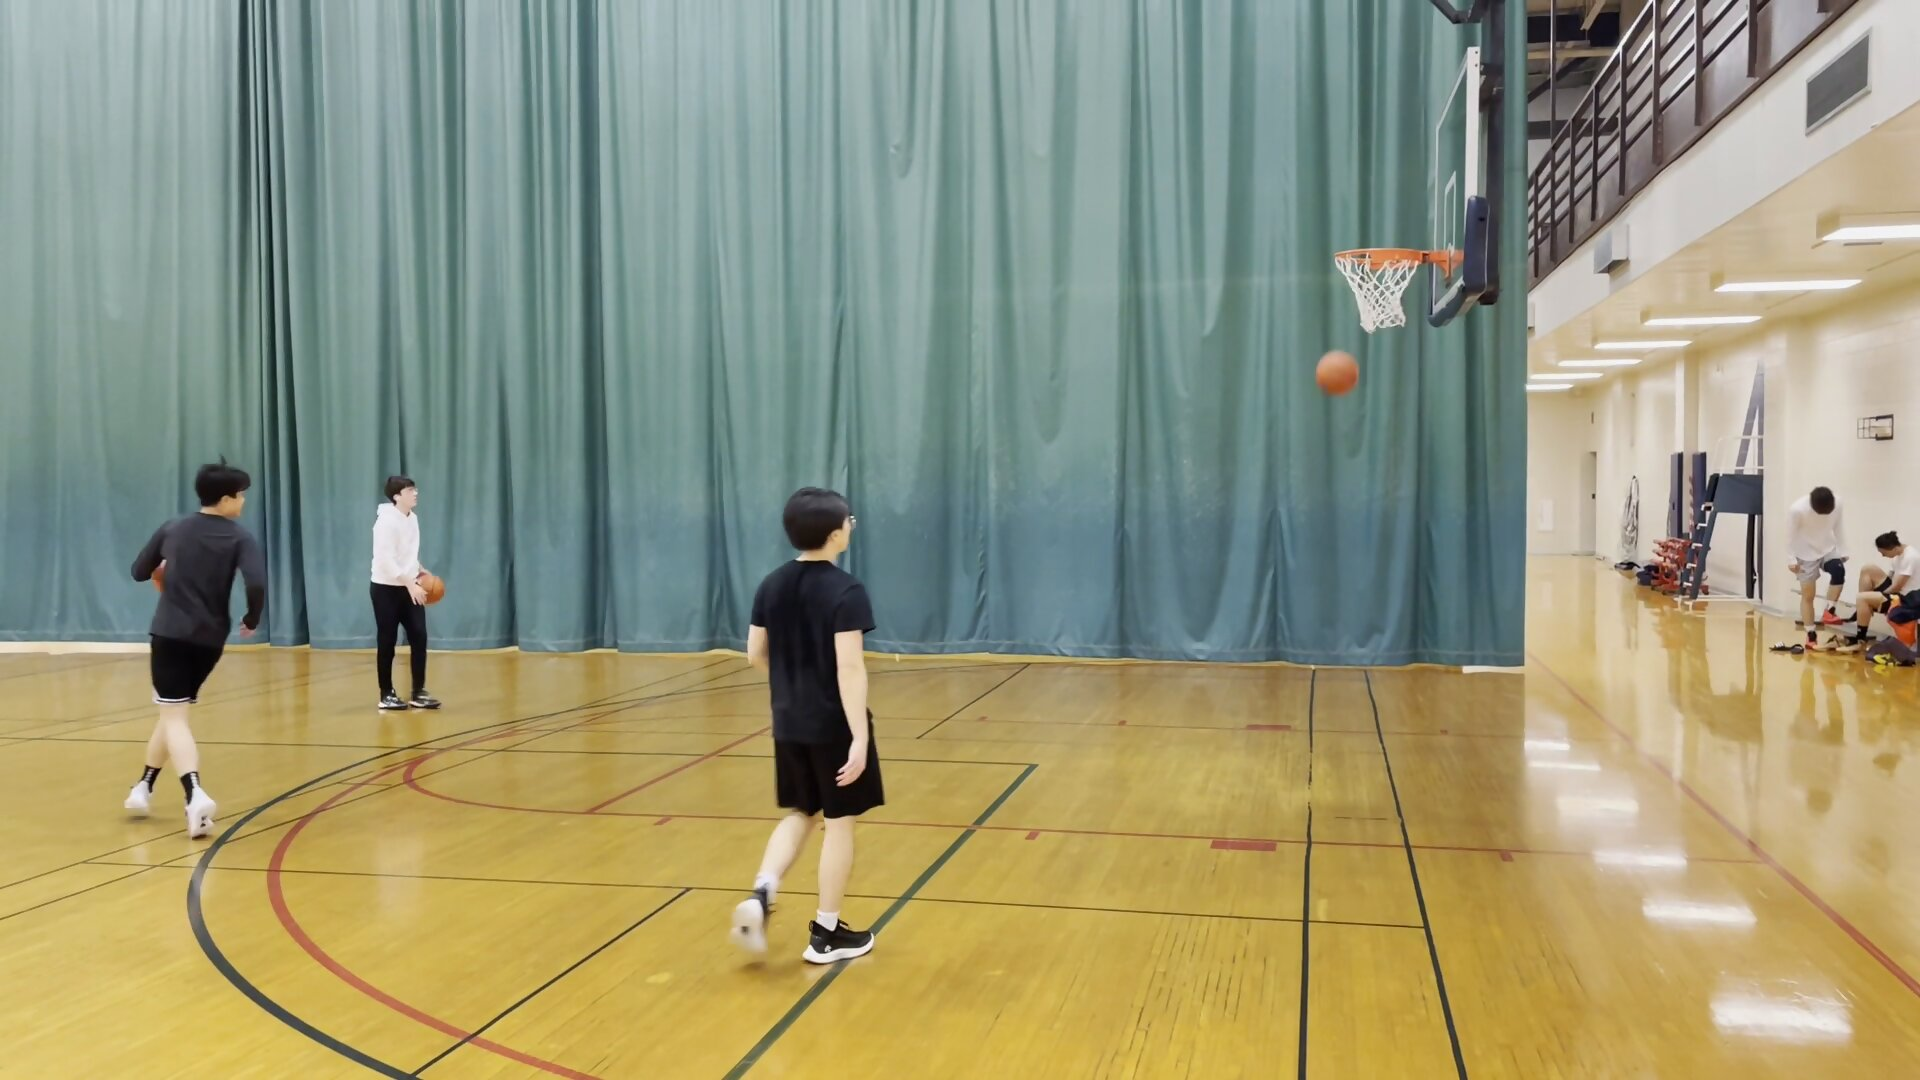ball: (1312, 353, 1360, 397), (416, 572, 448, 603)
net: (1354, 307, 1412, 338)
player: (736, 487, 886, 972), (127, 460, 255, 849), (358, 474, 453, 717), (1787, 484, 1851, 657), (1854, 531, 1920, 650)
rim: (1330, 244, 1425, 272)
